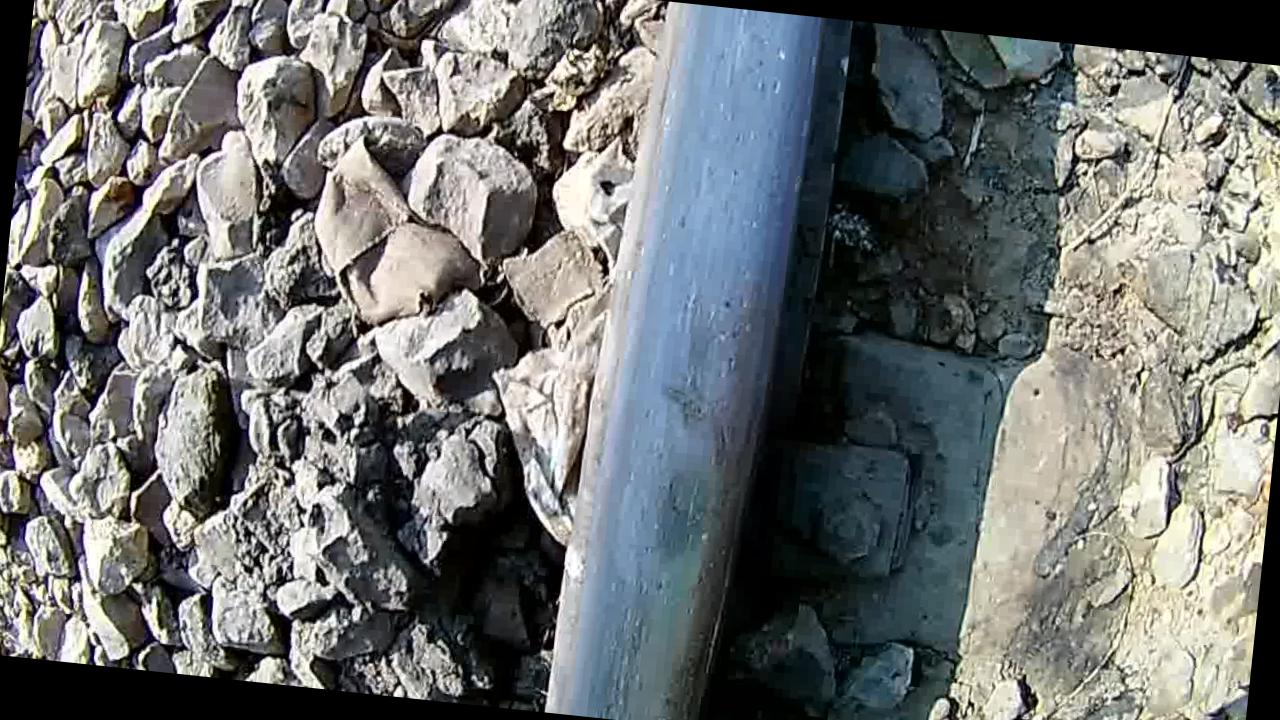bolt_missing: (601, 252, 798, 635)
